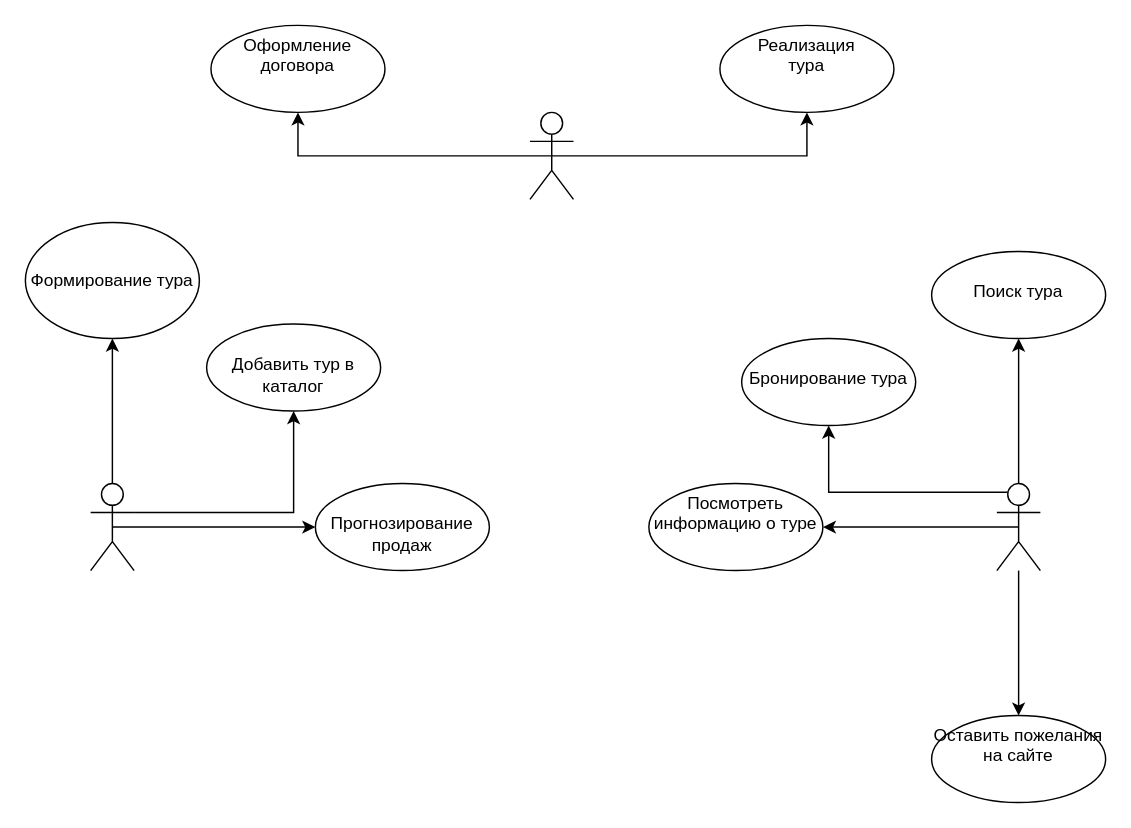
Some shapes in this 1131 by 828 pixel diagram are drawn without their labels. Each missing label, with the centre of its shape:
Клиент: (1017,526)
Турагент: (551,155)
Туроператор: (111,526)
